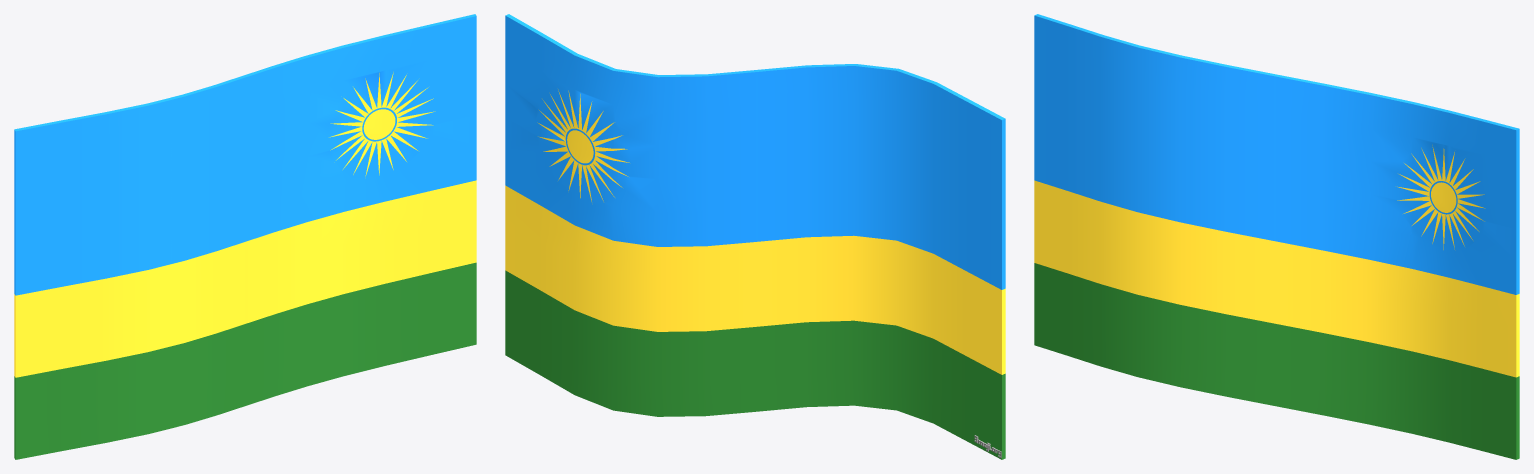
File: flag_rwanda.glb
3 views of the same model, side by side, from view 1: azimuth 30°, elevation 25°; view 2: azimuth 150°, elevation 25°; view 3: azimuth 330°, elevation 25° (orthographic). The views are drawn at different scales.
Visible parts, largest first — view 1: flag_rwanda; view 2: flag_rwanda; view 3: flag_rwanda.
Boxes of the visible parts, box(x1,y1,x2,y2) form: flag_rwanda: box(14, 14, 476, 459); flag_rwanda: box(505, 14, 1005, 459); flag_rwanda: box(1034, 14, 1519, 459).
Size of the model in its own units: 2.18 by 1.58 by 0.3373.
Materials: 1 (1 with a texture image).
